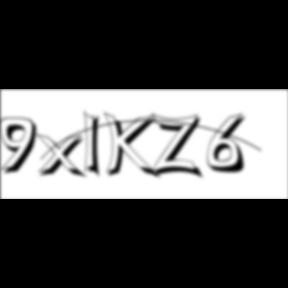6: (208, 112, 252, 176)
9: (0, 117, 44, 177)
K: (104, 110, 162, 182)
Z: (152, 112, 206, 181)
l: (84, 108, 107, 182)
x: (36, 132, 90, 181)
